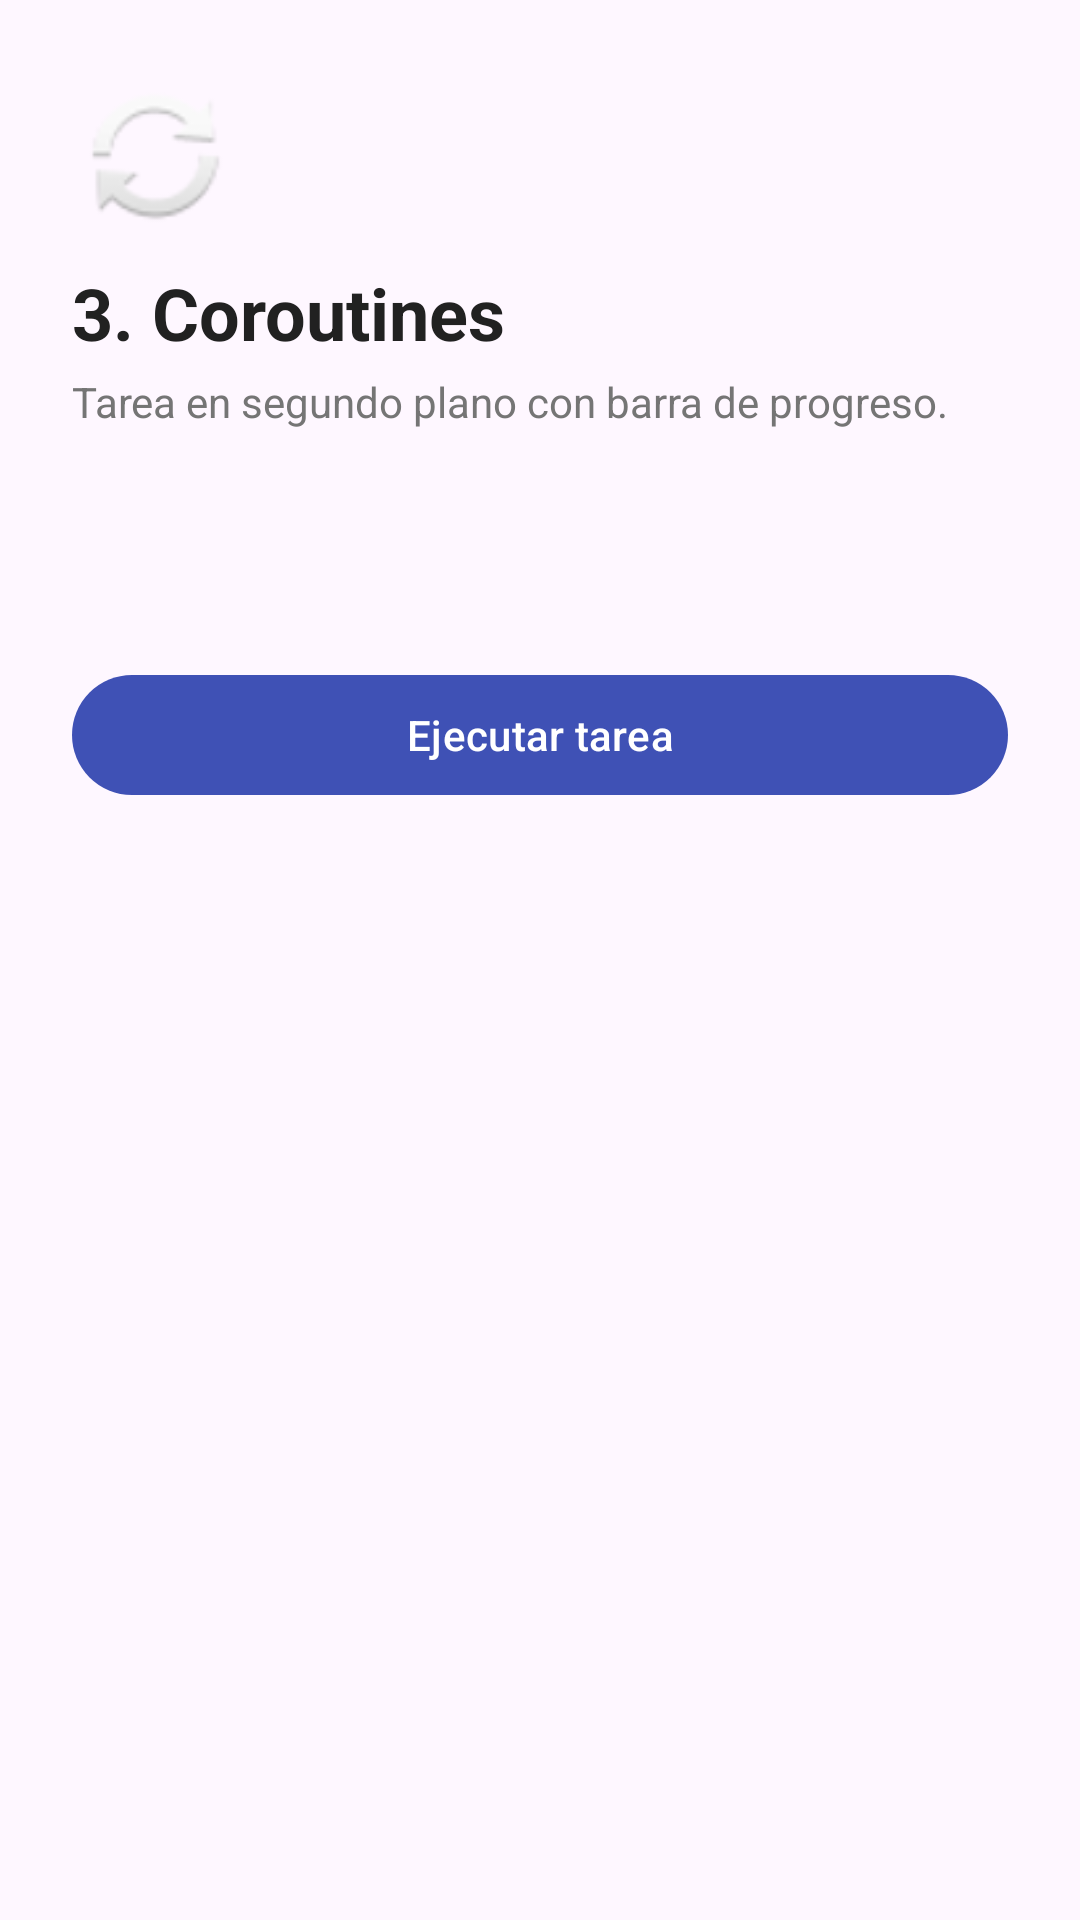

Icons on this 1080*1920 Android screen, each with the point to tap as (x,y):
popup sync: (155,163)
